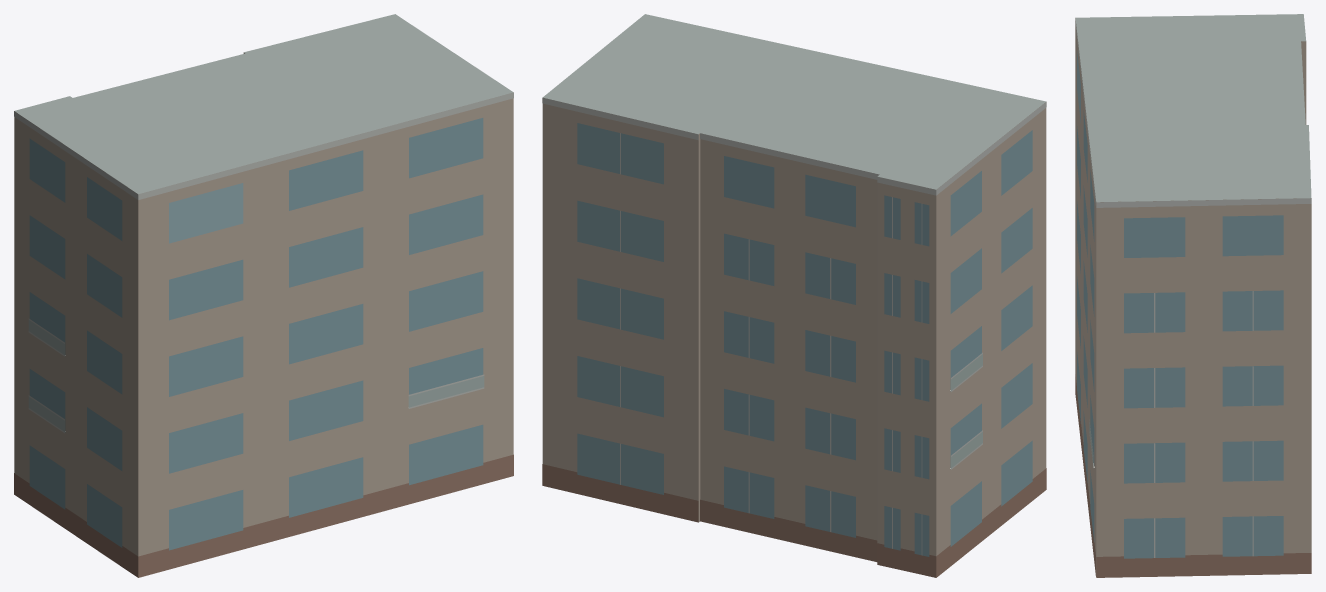
File: survey-upis-33027506.glb
The picture shows the model from 3 angles, left to right: view 1: azimuth 30°, elevation 25°; view 2: azimuth 150°, elevation 25°; view 3: azimuth 270°, elevation 25°; orthographic projection. The views are drawn at different scales.
Parts seen in each view (by area): view 1: survey-upis-33027506.tmp; view 2: survey-upis-33027506.tmp; view 3: survey-upis-33027506.tmp.
Part boxes in pixels (box(x1,y1,x2,y2)): survey-upis-33027506.tmp: box(14, 14, 513, 577); survey-upis-33027506.tmp: box(542, 14, 1046, 577); survey-upis-33027506.tmp: box(1075, 14, 1311, 577).
Size of the model in its own units: 17.15 by 15.95 by 9.09.
